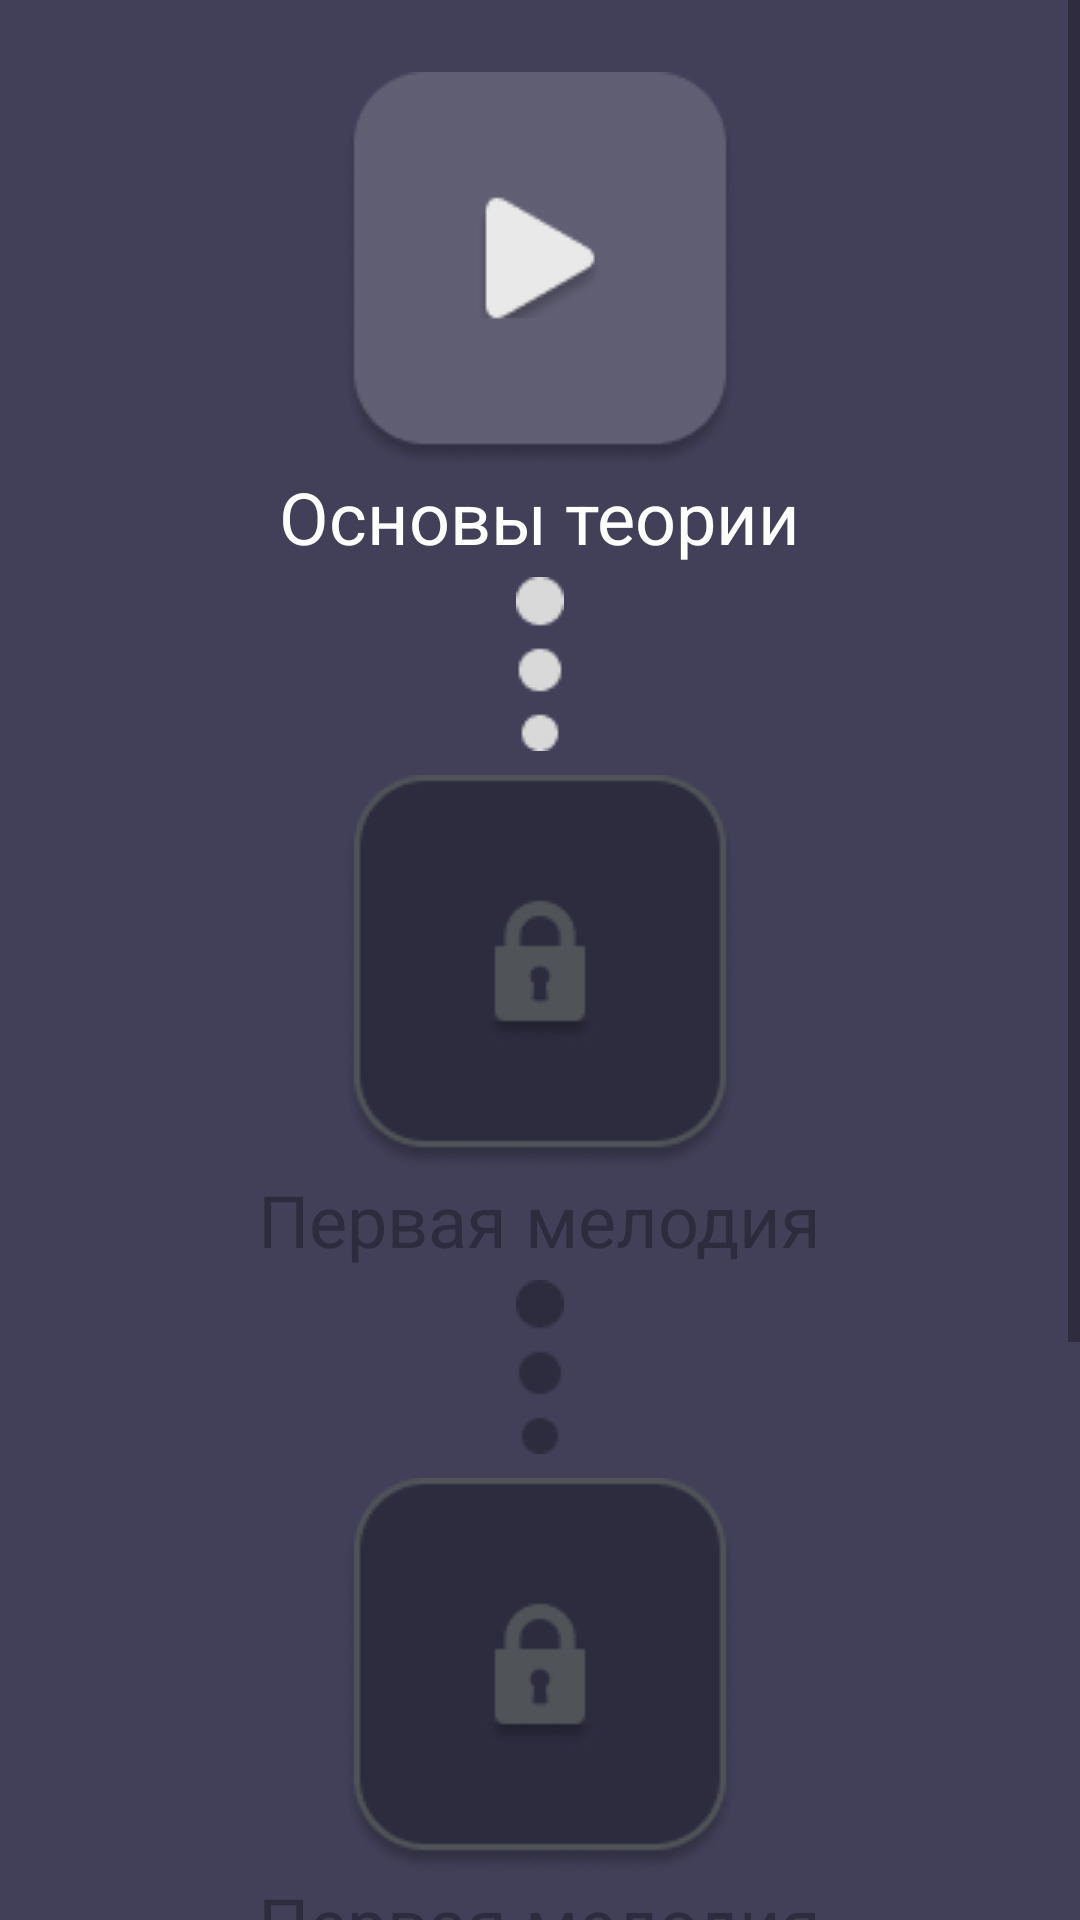

Where icons sit on this 1080px×1920px app screen, as (x1=x1, y1=y1, x2=x2, y2=y2):
circles: (x1=516, y1=577, x2=564, y2=751)
